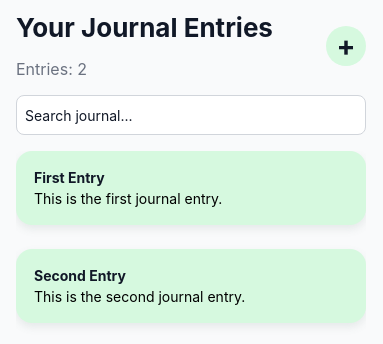
Test case: JournalScreen › filters entries based on search query
This screenshot has width=383, height=344.
Type "Second" into the field with placeholder "Search journal..." at [191, 115], box x1=16 y1=95 x2=366 y2=135
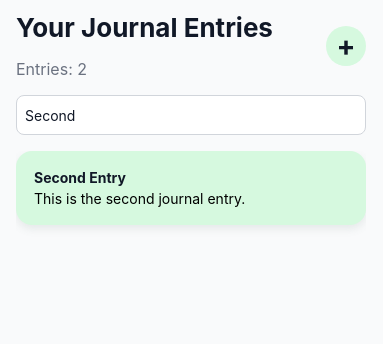
Expected: the text "Second Entry" is shown, x1=34 y1=169 x2=126 y2=186
Now the text "First Entry" is gone
